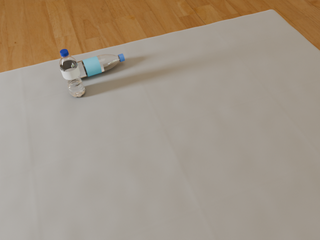bottle: (59, 49, 85, 97), (77, 54, 125, 78)
